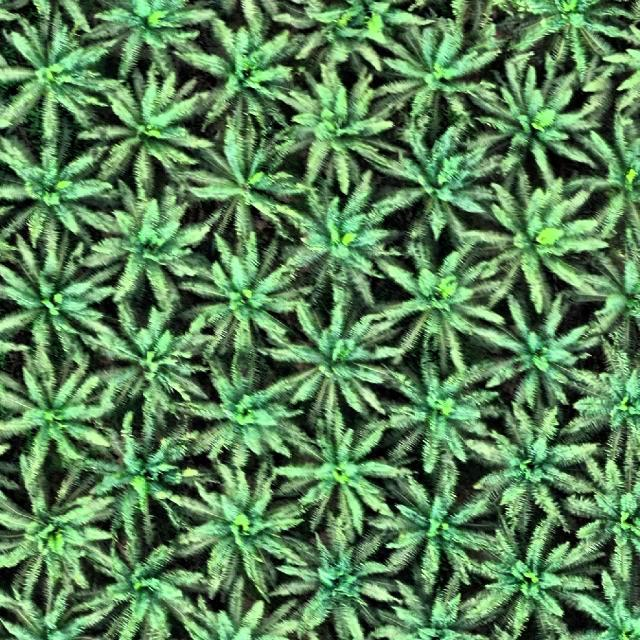Kelapa_Sawit: (466, 168, 586, 310), (478, 419, 597, 533), (186, 23, 306, 132), (380, 252, 496, 362), (94, 74, 211, 182), (188, 132, 310, 235), (480, 61, 586, 178), (376, 483, 486, 594), (78, 419, 182, 536), (0, 251, 109, 362), (95, 193, 197, 310), (474, 525, 578, 639), (382, 118, 484, 230), (276, 309, 390, 406), (384, 364, 497, 461), (1, 30, 110, 130), (188, 480, 294, 582), (283, 532, 389, 634), (184, 375, 298, 469), (197, 242, 296, 350), (396, 23, 494, 132), (78, 550, 194, 640), (1, 492, 104, 592), (3, 370, 102, 472), (98, 317, 198, 417), (288, 424, 392, 520), (294, 186, 384, 295), (300, 72, 386, 180), (5, 140, 96, 240), (497, 317, 587, 414), (95, 0, 207, 73), (511, 0, 633, 66), (578, 118, 640, 230), (573, 247, 640, 344), (579, 356, 640, 457), (581, 466, 640, 568), (578, 572, 640, 640)
